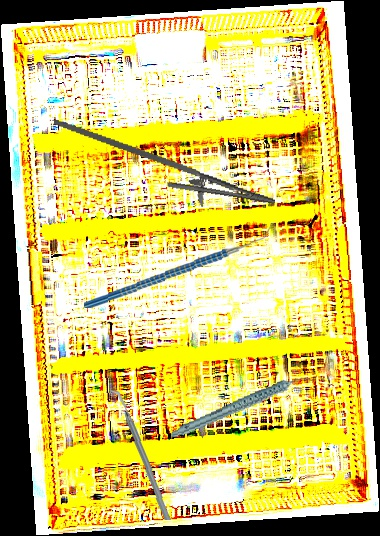Chopper: (81, 222, 278, 309), (103, 389, 177, 521)
Handpiece: (164, 374, 320, 440)
Needle Holder: (43, 118, 282, 223)
